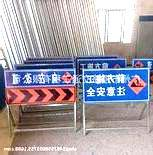sign: (83, 69, 149, 101), (5, 72, 73, 87)
